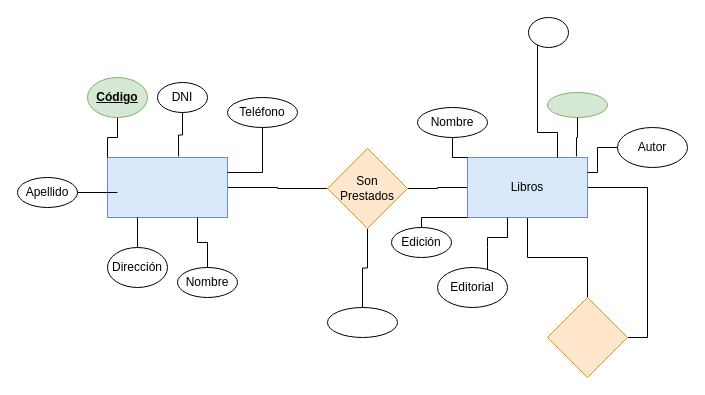
The diagram is 705 pixels wide and 395 high, and some of its shapes have lost their labels. The shapes that lost their labels are listed below. From the top down, each one's centre as x and y in pixels, then its label:
the point at 548,32: Año
the point at 577,105: ISBN
the point at 167,187: Socios
the point at 362,322: Fecha
the point at 587,337: està deteriodado
